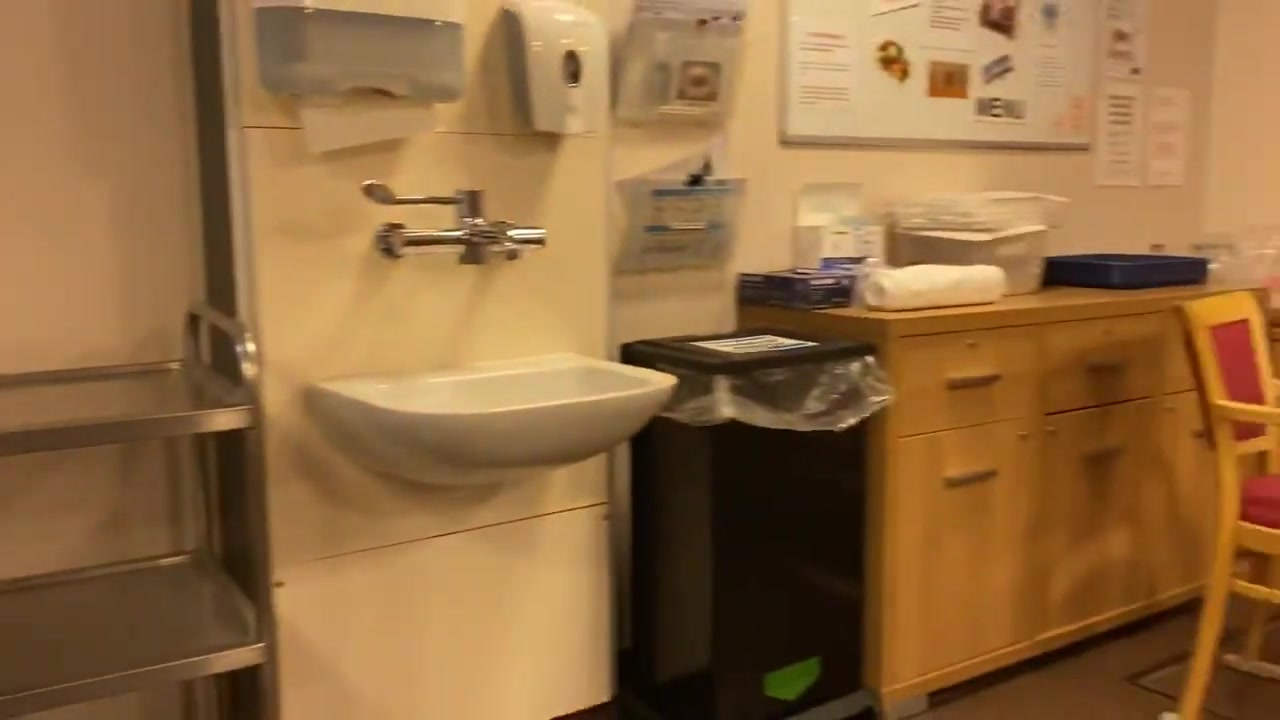chair: (1169, 289, 1280, 720)
counter: (735, 271, 1268, 703)
dispenser: (255, 5, 466, 123), (501, 1, 612, 134)
faucet: (360, 177, 547, 265)
handle: (942, 372, 1007, 392), (938, 466, 1001, 486), (1080, 444, 1129, 463), (1086, 360, 1123, 373)
sink: (308, 352, 681, 488)
utility_cart: (1, 305, 274, 720)
waste_bin: (619, 330, 883, 720)
